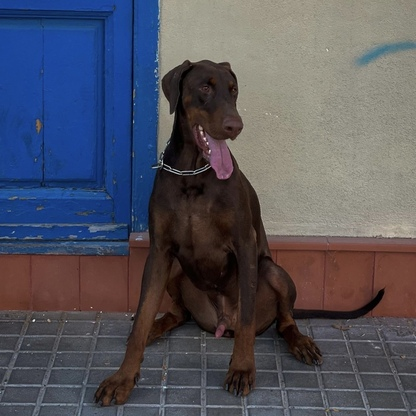doberman: (118, 58, 332, 402)
